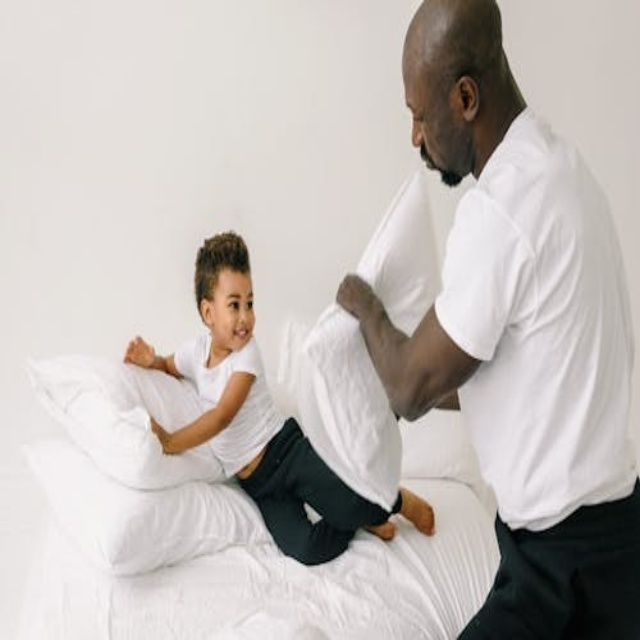Sin_gafas: (404, 92, 447, 128), (220, 286, 257, 312)
Sin_guantes: (119, 333, 155, 374)
Sin_mascara: (416, 144, 462, 188), (227, 322, 252, 347)
